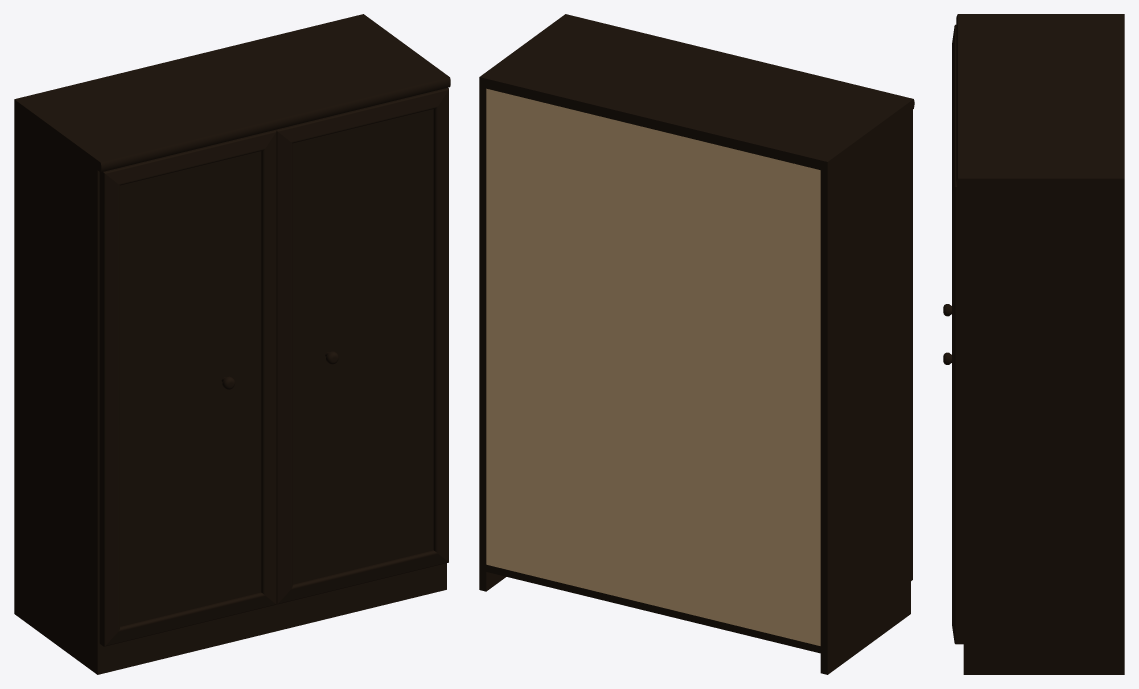
File: cupboard_model_3d.dae
3 renders of one model, left to right at view 1: azimuth 30°, elevation 25°; view 2: azimuth 150°, elevation 25°; view 3: azimuth 270°, elevation 25°, orthographic. The views are drawn at different scales.
Parts seen in each view (by area): view 1: Schranktür (×2), Seite, Top, Bottom, Ground; view 2: Back, Seite (×2), Top, Ground, Schranktür; view 3: Seite, Top, Schranktür (×2).
Part boxes in pixels (x1,y1,x2,y2): Schranktür (×2): [99, 87, 448, 646]; Seite: [14, 109, 104, 674]; Top: [14, 14, 450, 172]; Bottom: [104, 571, 439, 672]; Ground: [104, 565, 439, 653]; Back: [486, 88, 820, 645]; Seite (×2): [479, 87, 910, 674]; Top: [479, 14, 914, 171]; Ground: [486, 564, 820, 653]; Schranktür: [911, 110, 912, 580]; Seite: [963, 188, 1124, 674]; Top: [956, 14, 1124, 187]; Schranktür (×2): [952, 24, 963, 644].
Size of the model in its own units: 31.89 by 14.84 by 44.88.
